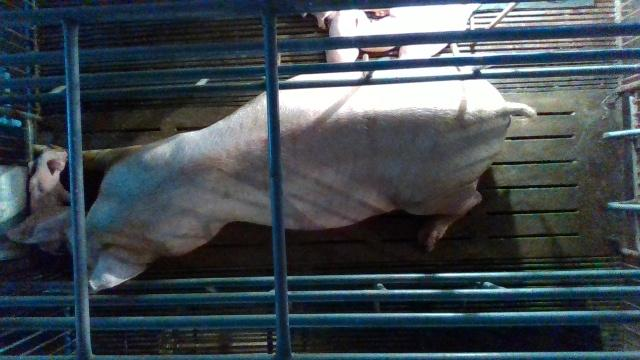piglet: (29, 146, 70, 214)
sow-sit: (37, 67, 538, 289)
